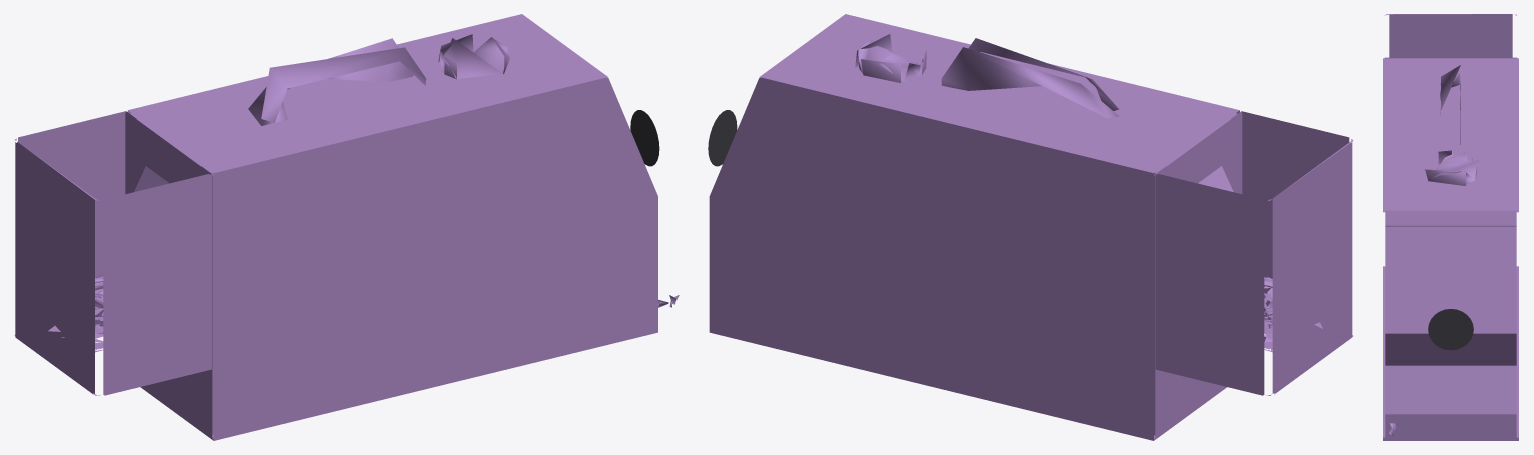
The model's file is hazer.glb.
3 views of the same model, side by side, from view 1: azimuth 30°, elevation 25°; view 2: azimuth 150°, elevation 25°; view 3: azimuth 270°, elevation 25° (orthographic). The views are drawn at different scales.
Visible parts, largest first — view 1: head, lens; view 2: head, lens; view 3: head, lens.
Boxes of the visible parts, left/top/right/bottom form: head: left=14, top=14, right=679, bottom=440; lens: left=630, top=110, right=659, bottom=166; head: left=709, top=14, right=1353, bottom=440; lens: left=708, top=110, right=737, bottom=166; head: left=1383, top=14, right=1518, bottom=440; lens: left=1428, top=309, right=1473, bottom=350.
Size of the model in its own units: 0.715 by 0.3552 by 0.1799.
